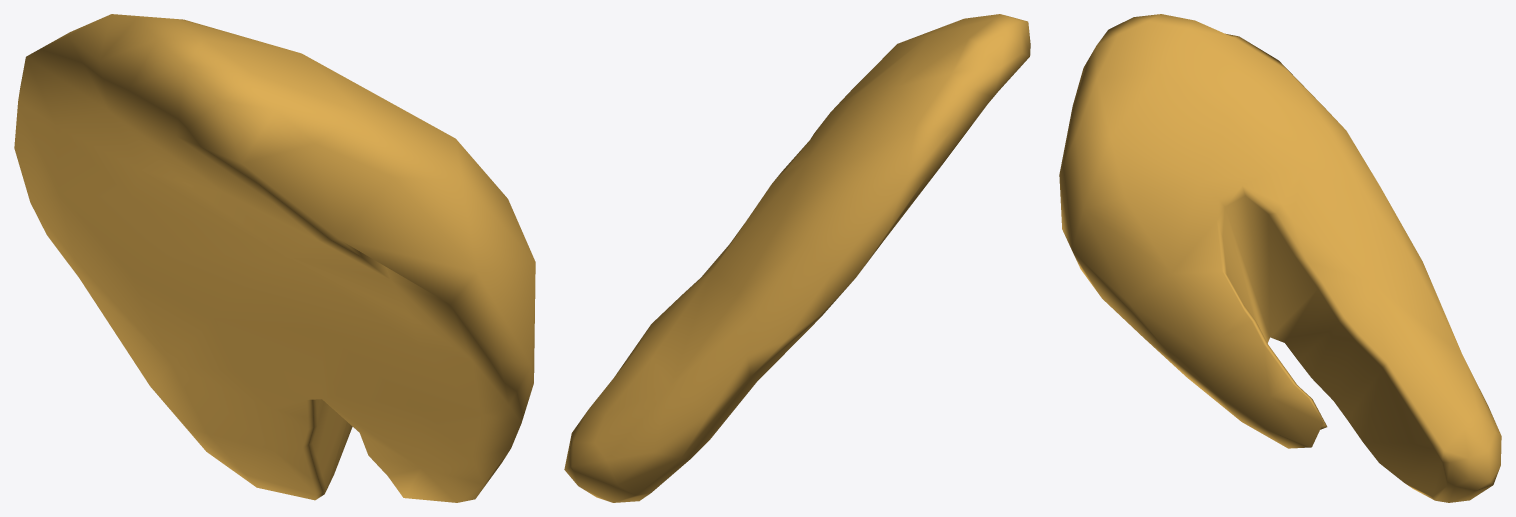
The picture shows the model from 3 angles, left to right: view 1: azimuth 30°, elevation 25°; view 2: azimuth 150°, elevation 25°; view 3: azimuth 270°, elevation 25°; orthographic projection. The views are drawn at different scales.
Visible parts, largest first — view 1: 右侧下颌下腺; view 2: 右侧下颌下腺; view 3: 右侧下颌下腺.
Boxes of the visible parts, box(x1,y1,x2,y2) form: 右侧下颌下腺: box(14, 14, 535, 502); 右侧下颌下腺: box(564, 14, 1030, 502); 右侧下颌下腺: box(1059, 14, 1501, 502).
Size of the model in its own units: 0.0231 by 0.0319 by 0.0333.
